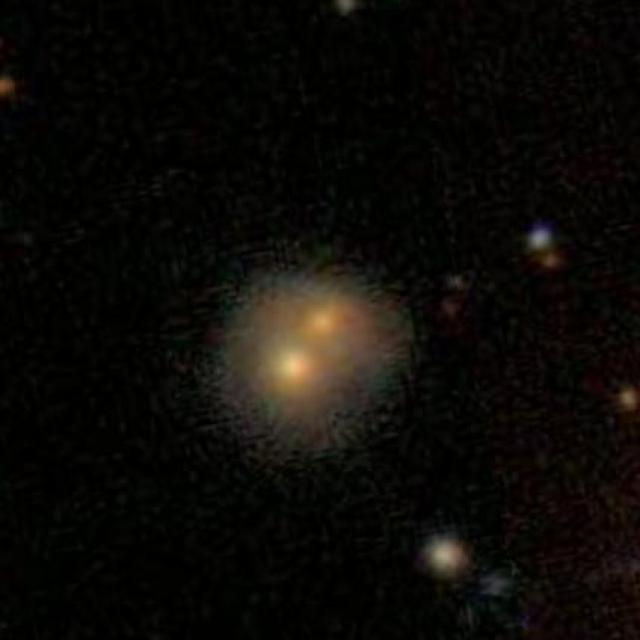galaxy: (180, 248, 420, 478), (417, 528, 471, 578), (481, 571, 518, 603), (440, 296, 467, 327), (616, 386, 640, 419), (442, 273, 472, 299), (1, 73, 25, 104), (528, 228, 555, 255), (537, 250, 571, 271), (328, 1, 364, 20)
